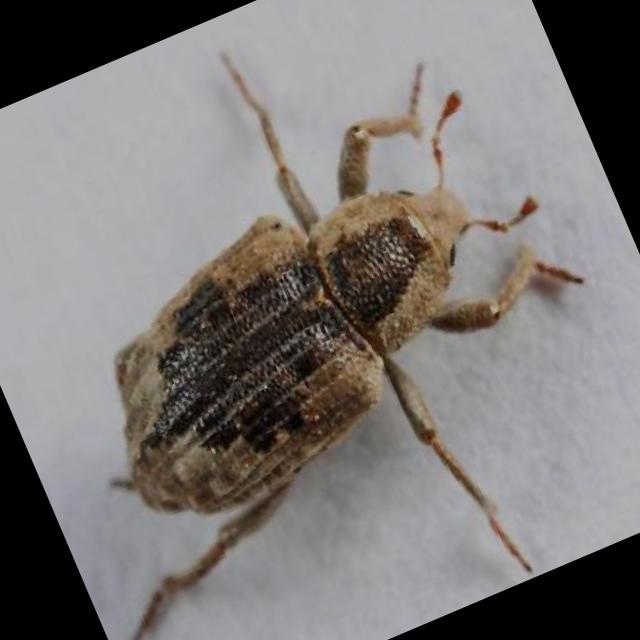rice-bug: (51, 140, 544, 554)
